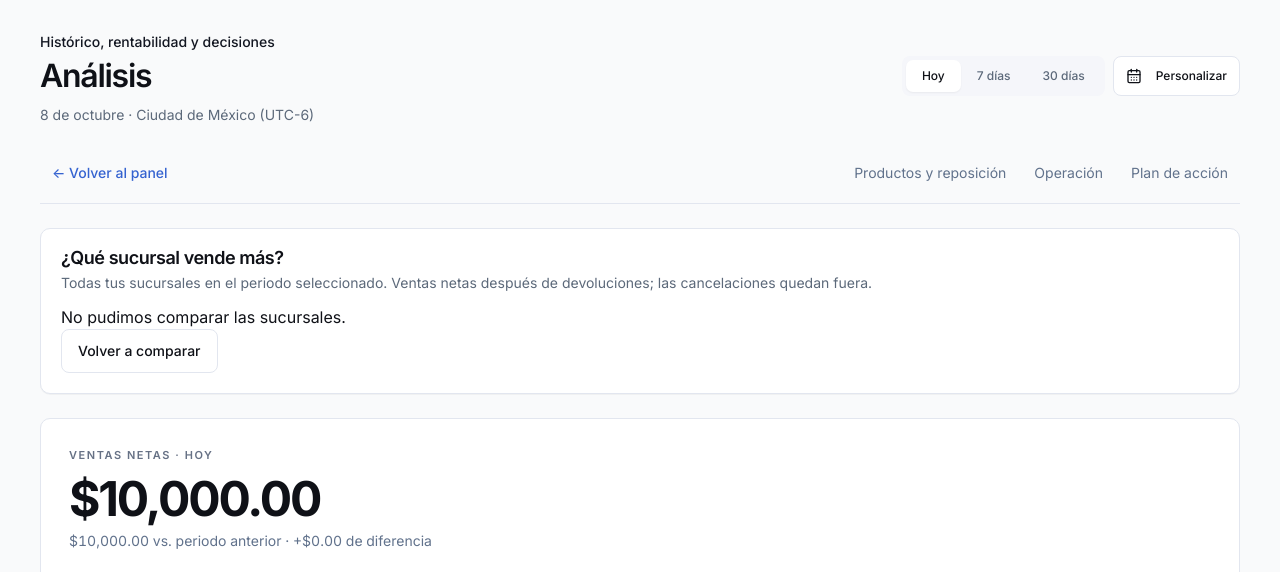
Scenario: ReportsView › labels the trailing 30-day window without changing its cross-month range
This screenshot has width=1280, height=572.
Expected: the text "Ventas netas" is shown, [69,448,171,462]
Step 1. Click the button "30 días" → [1064, 76], box [1026,60,1101,92]
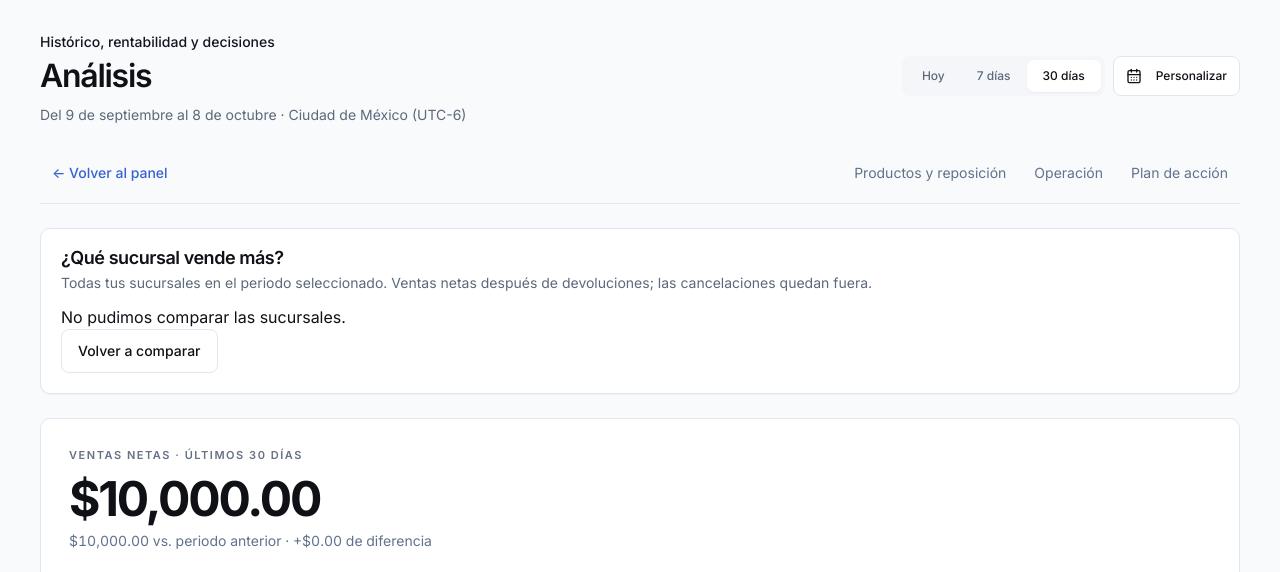
Now the text "· Últimos 30 días" is shown, box [171,448,303,462]
Now the text "Del 9 de septiembre al 8 de octubre" is shown, box [40,106,466,123]
